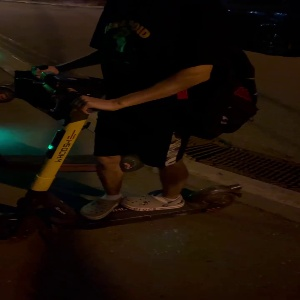human on a scooter: (1, 2, 263, 240)
